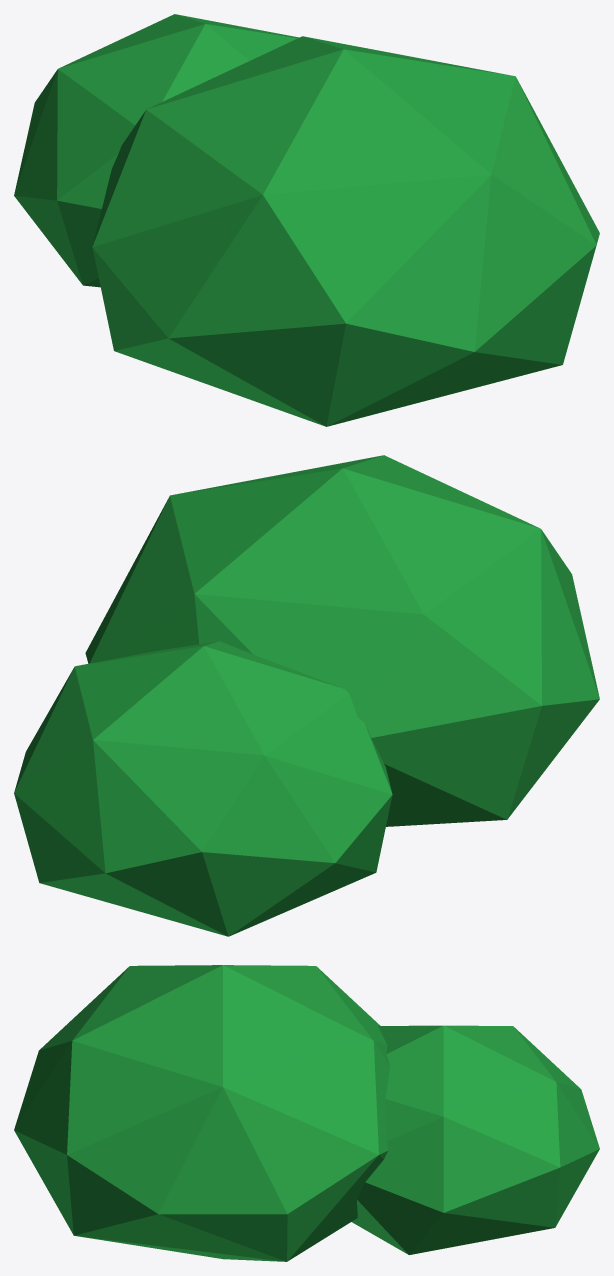
File: Duo_Bush.fbx
The picture shows the model from 3 angles, top to bottom: view 1: azimuth 30°, elevation 25°; view 2: azimuth 150°, elevation 25°; view 3: azimuth 270°, elevation 25°; orthographic projection. The views are drawn at different scales.
Parts seen in each view (by area): view 1: Duo Bush; view 2: Duo Bush; view 3: Duo Bush.
Boxes of the visible parts, box(x1,y1,x2,y2) form: Duo Bush: box(14, 14, 599, 426); Duo Bush: box(14, 455, 599, 936); Duo Bush: box(14, 965, 599, 1261).
Size of the model in its own units: 139 by 93.68 by 201.
